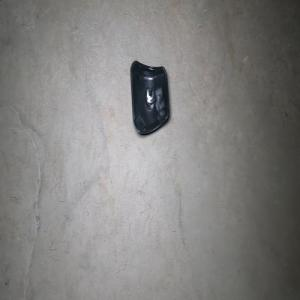LuggagePart: (129, 59, 170, 136)
